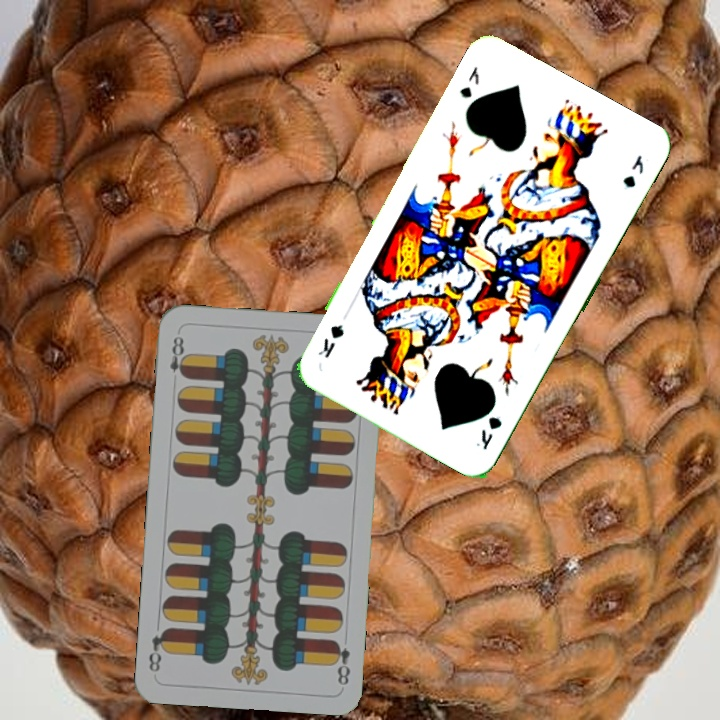E8: (328, 636, 353, 688), (166, 332, 190, 380)
GK: (471, 412, 505, 453), (455, 62, 482, 101)
